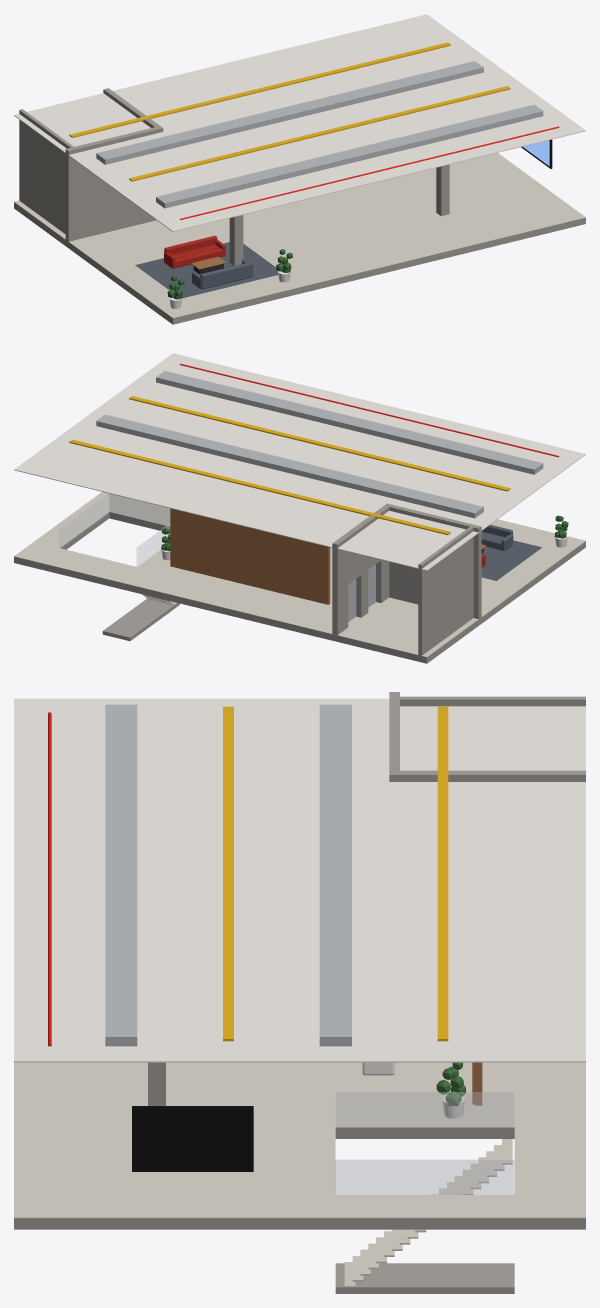
3 views of the same model, one above another, from view 1: azimuth 30°, elevation 25°; view 2: azimuth 150°, elevation 25°; view 3: azimuth 270°, elevation 25° (orthographic). The views are drawn at different scales.
Visible parts, largest first — view 1: LV_G; view 2: LV_G, stair_glass; view 3: LV_G, stair_glass.
Boxes of the visible parts, bbox=[...] form: LV_G: bbox=[14, 14, 585, 324]; LV_G: bbox=[14, 353, 585, 663]; stair_glass: bbox=[60, 493, 170, 566]; LV_G: bbox=[14, 692, 585, 1293]; stair_glass: bbox=[335, 1092, 513, 1194].
Bounding box in the file's own units: 24 × 9.33 × 16.
